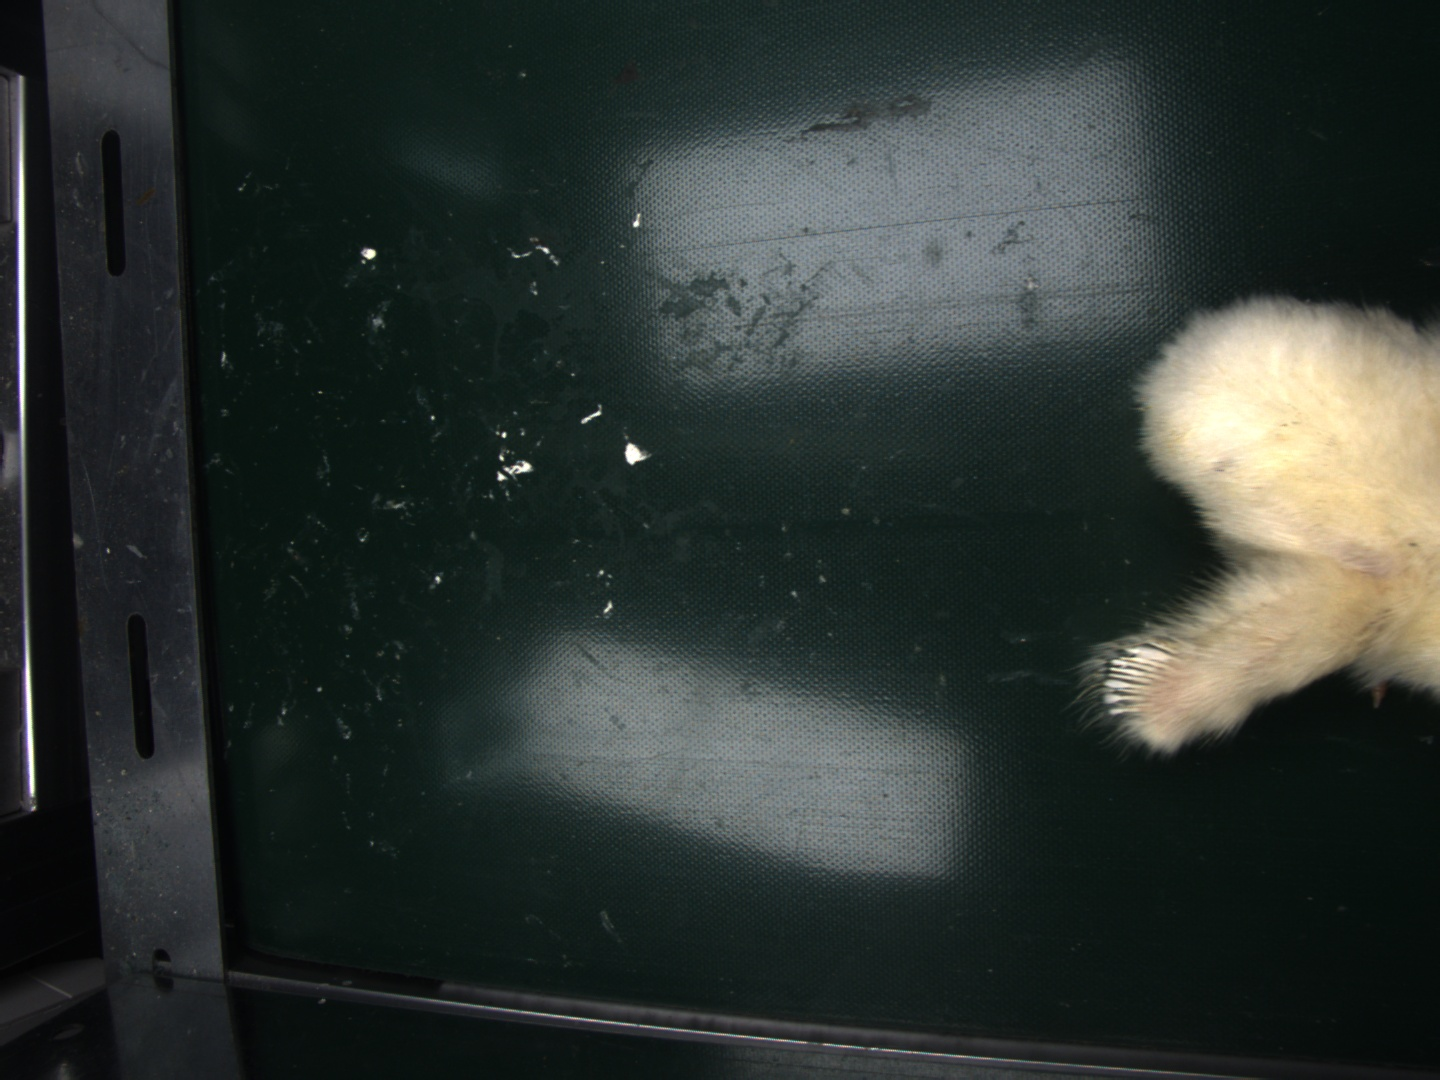male: (1099, 644, 1174, 726)
